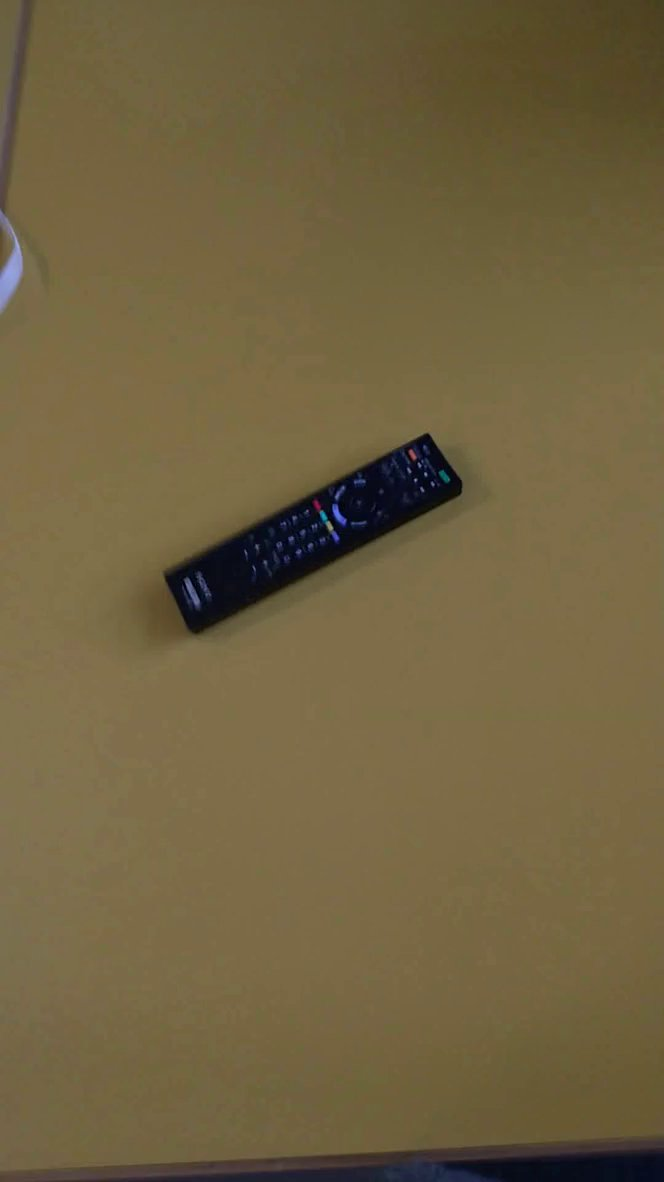remote: (154, 420, 482, 645)
